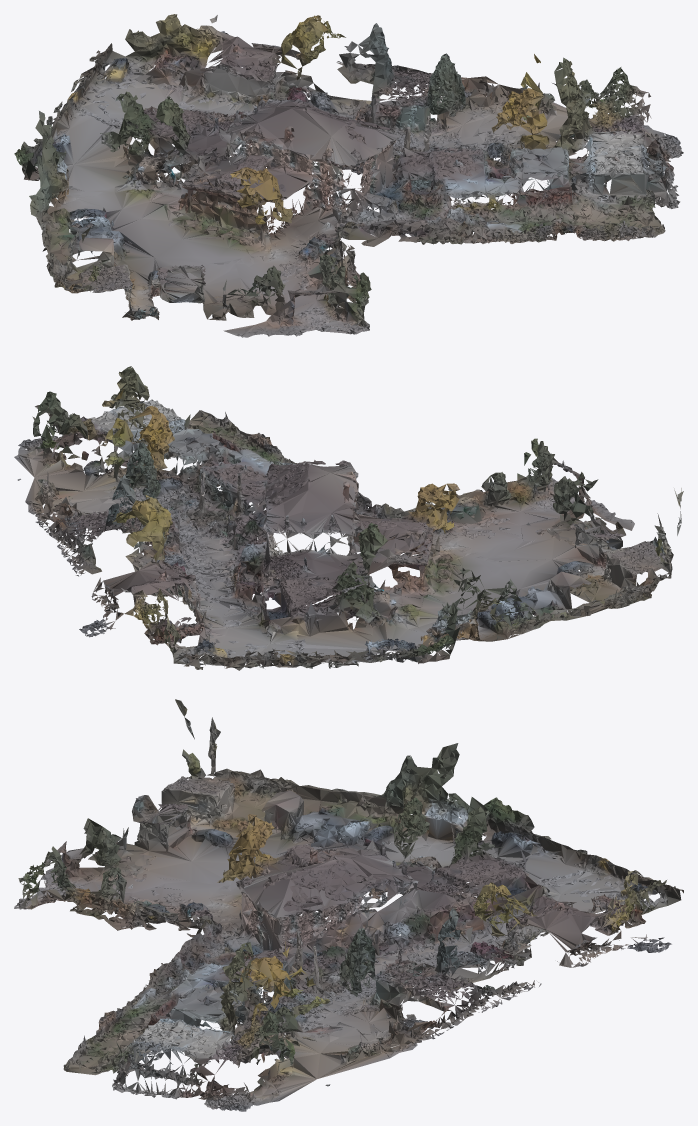
Rendered from property.glb.
The picture shows the model from 3 angles, top to bottom: view 1: azimuth 30°, elevation 25°; view 2: azimuth 150°, elevation 25°; view 3: azimuth 270°, elevation 25°; orthographic projection. The views are drawn at different scales.
Parts seen in each view (by area): view 1: geometry_0; view 2: geometry_0; view 3: geometry_0.
Part boxes in pixels (<box>): geometry_0: <box>14,14,683,337</box>; geometry_0: <box>14,366,683,670</box>; geometry_0: <box>14,699,683,1111</box>.
Bounding box in the file's own units: 86.14 × 16.02 × 75.25.
